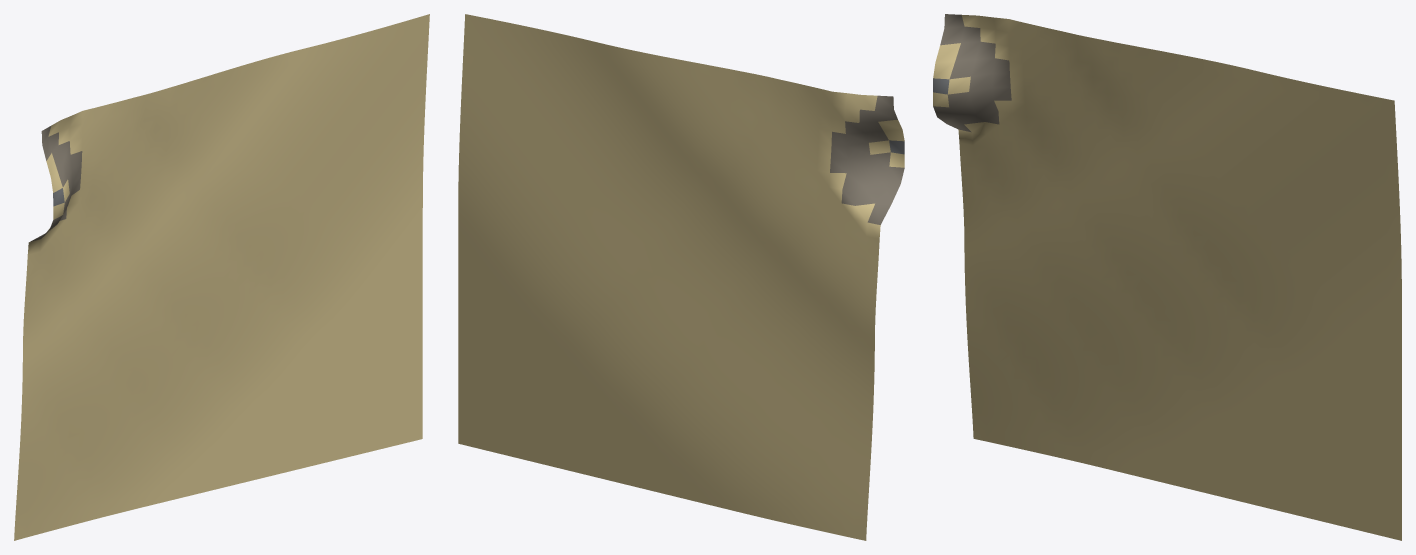
The model's file is island_terrain_25_02.obj.
The picture shows the model from 3 angles, left to right: view 1: azimuth 30°, elevation 25°; view 2: azimuth 150°, elevation 25°; view 3: azimuth 330°, elevation 25°; orthographic projection. The views are drawn at different scales.
Parts seen in each view (by area): view 1: island_terrain_25_02; view 2: island_terrain_25_02; view 3: island_terrain_25_02.
Part boxes in pixels (box(x1,y1,x2,y2)): island_terrain_25_02: box(14, 14, 429, 540); island_terrain_25_02: box(458, 14, 904, 540); island_terrain_25_02: box(933, 14, 1401, 540).
Bounding box in the file's own units: 256 × 256 × 44.7.
